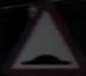Speed Breaker ahead: (10, 15, 72, 67)
